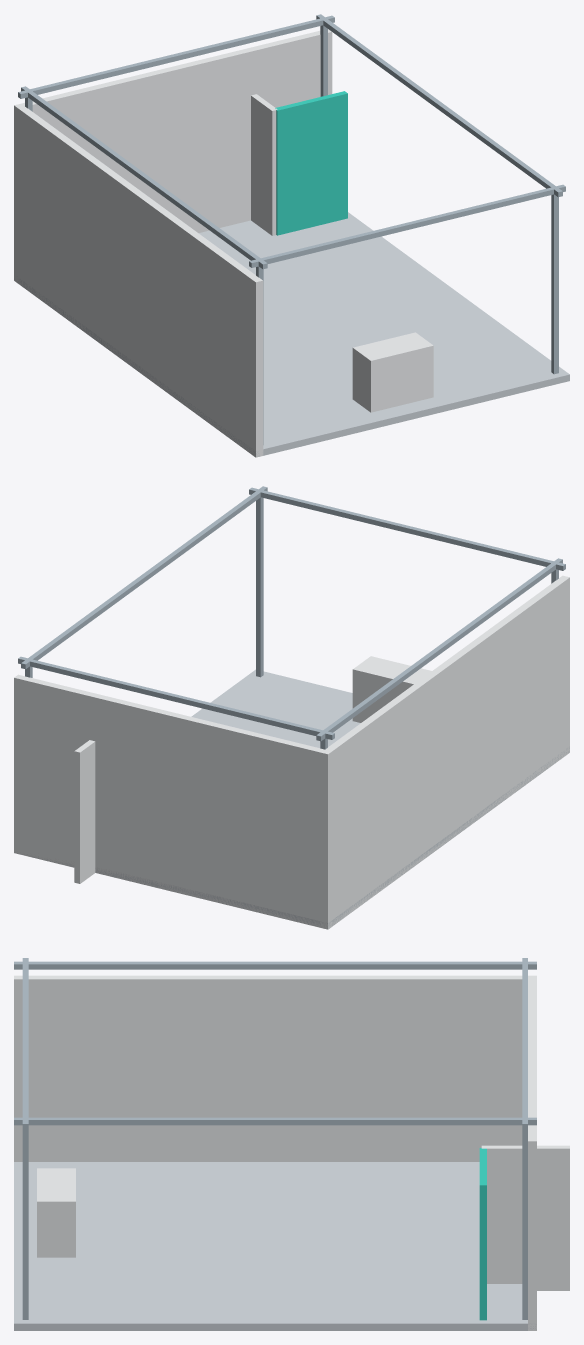
3 views of the same model, one above another, from view 1: azimuth 30°, elevation 25°; view 2: azimuth 150°, elevation 25°; view 3: azimuth 270°, elevation 25° (orthographic). The views are drawn at different scales.
Visible parts, largest first — view 1: Exhibition Booth Concept; view 2: Exhibition Booth Concept; view 3: Exhibition Booth Concept.
Boxes of the visible parts, box(x1,y1,x2,y2) form: Exhibition Booth Concept: box(14, 14, 569, 457); Exhibition Booth Concept: box(14, 486, 569, 929); Exhibition Booth Concept: box(14, 958, 569, 1330).
Size of the model in its own units: 6 by 3.49 by 8.51.
